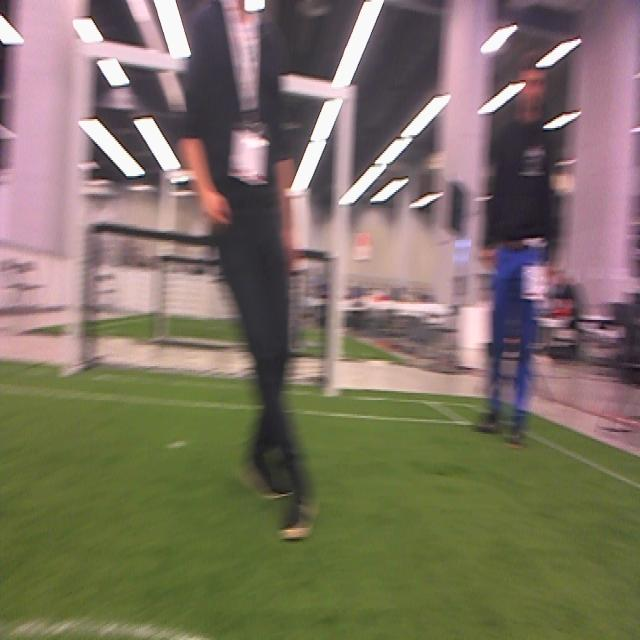goalpost: (323, 103, 355, 395), (65, 53, 91, 370)
